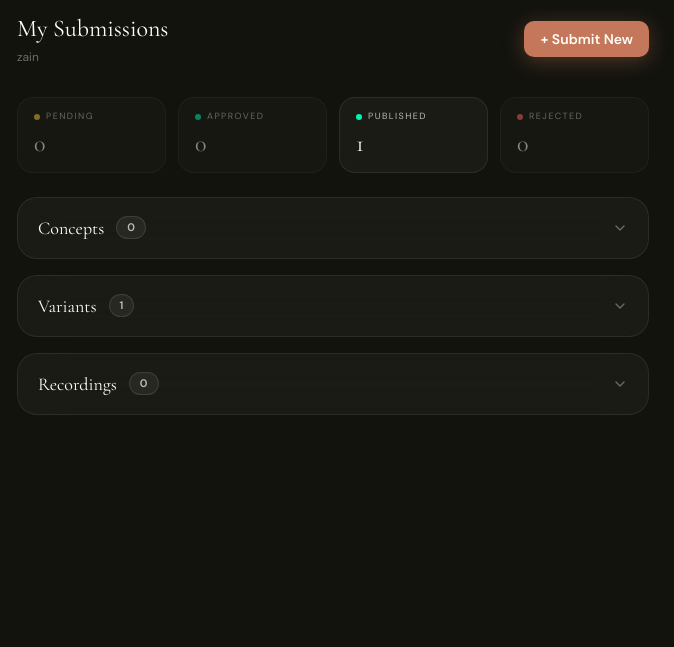
My Submissions — needs completion › hides the chip when nothing needs completing
Click the button "Variants 1" at (67, 306), box [18,276,648,336]
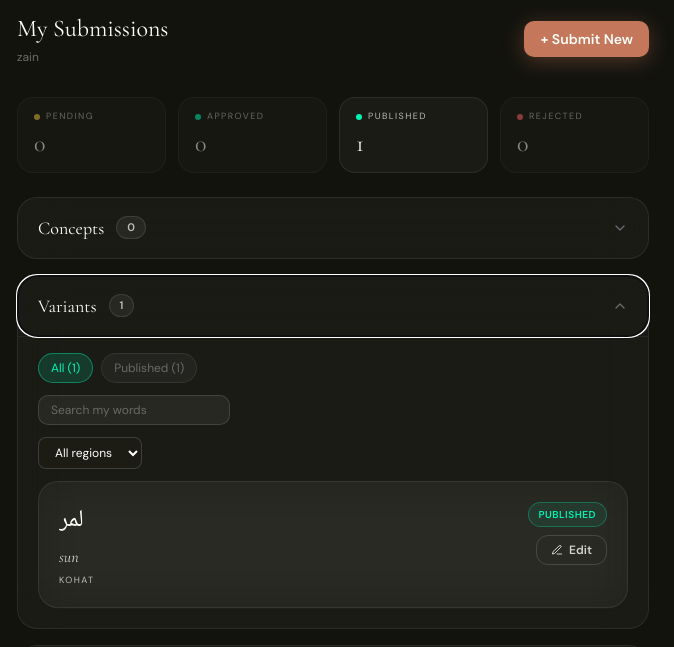
expect the text "لمر" is shown: met, box [59,502,84,540]
